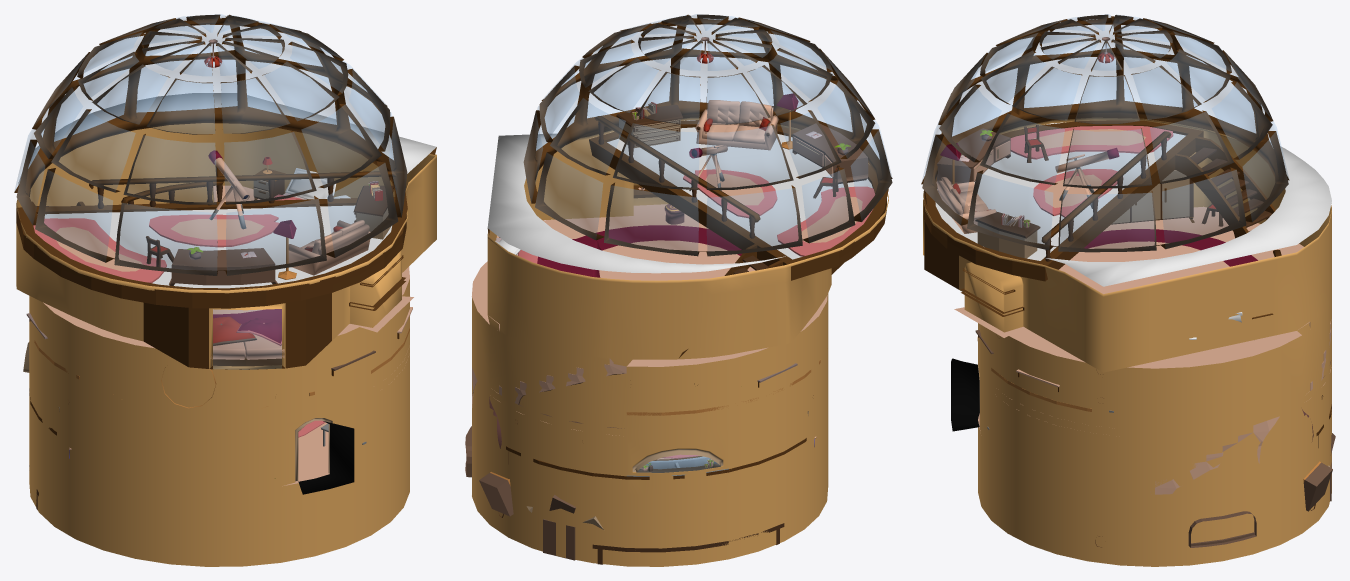
The model's file is Torre maximo (interior).fbx.
The picture shows the model from 3 angles, left to right: view 1: azimuth 30°, elevation 25°; view 2: azimuth 150°, elevation 25°; view 3: azimuth 270°, elevation 25°; orthographic projection. The views are drawn at different scales.
Visible parts, largest first — view 1: Parede, Chão, Estante, Carpete 2, Carpete 1, Armário baixo, Almofada.001, Corrimão, Sofá, Armário Pequeno, Telescópio, Almofada da cama (+4 smaller); view 2: Parede, Chão, Carpete quarto, Sofá, Carpete 2, Armário baixo, Carpete 1, Caixas, Corrimão, Armário Pequeno, Balcão, Mesa Cave (+2 smaller); view 3: Parede, Chão, Carpete quarto, Carpete 2, Escadas de madeira, Cube, Carpete 1, Armário baixo, Corrimão, Armário Pequeno, Degraus, Sofá (+4 smaller).
Part boxes in pixels (bbox=[...]): Parede: bbox=[14, 14, 436, 566]; Chão: bbox=[16, 185, 413, 486]; Estante: bbox=[143, 293, 331, 369]; Carpete 2: bbox=[33, 218, 166, 283]; Carpete 1: bbox=[149, 214, 279, 247]; Armário baixo: bbox=[169, 248, 277, 285]; Almofada.001: bbox=[210, 316, 284, 359]; Corrimão: bbox=[89, 171, 396, 208]; Sofá: bbox=[288, 220, 370, 275]; Armário Pequeno: bbox=[353, 185, 394, 239]; Telescópio: bbox=[208, 150, 249, 229]; Almofada da cama: bbox=[285, 168, 336, 199]; Parede: bbox=[472, 14, 892, 566]; Chão: bbox=[471, 120, 886, 459]; Carpete quarto: bbox=[576, 225, 755, 280]; Sofá: bbox=[695, 100, 778, 150]; Carpete 2: bbox=[777, 186, 875, 256]; Armário baixo: bbox=[792, 123, 868, 184]; Carpete 1: bbox=[683, 169, 777, 218]; Caixas: bbox=[479, 472, 603, 560]; Corrimão: bbox=[594, 116, 760, 238]; Armário Pequeno: bbox=[616, 104, 683, 148]; Balcão: bbox=[506, 438, 806, 479]; Mesa Cave: bbox=[592, 523, 784, 564]; Parede: bbox=[921, 14, 1331, 566]; Chão: bbox=[923, 120, 1331, 566]; Carpete quarto: bbox=[1059, 229, 1257, 293]; Carpete 2: bbox=[1010, 125, 1173, 159]; Escadas de madeira: bbox=[1175, 136, 1275, 238]; Cube: bbox=[1111, 169, 1194, 224]; Carpete 1: bbox=[1033, 169, 1123, 217]; Armário baixo: bbox=[937, 128, 1010, 184]; Corrimão: bbox=[1041, 131, 1171, 261]; Armário Pequeno: bbox=[975, 212, 1040, 258]; Degraus: bbox=[1190, 147, 1271, 231]; Sofá: bbox=[936, 177, 996, 233].
Bounding box in the file's own units: 1174 × 1355 × 1150.
